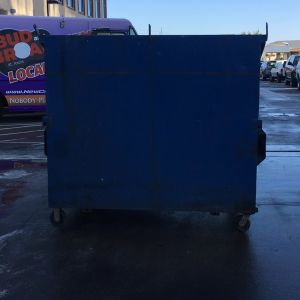Dumpster: (32, 23, 273, 233)
